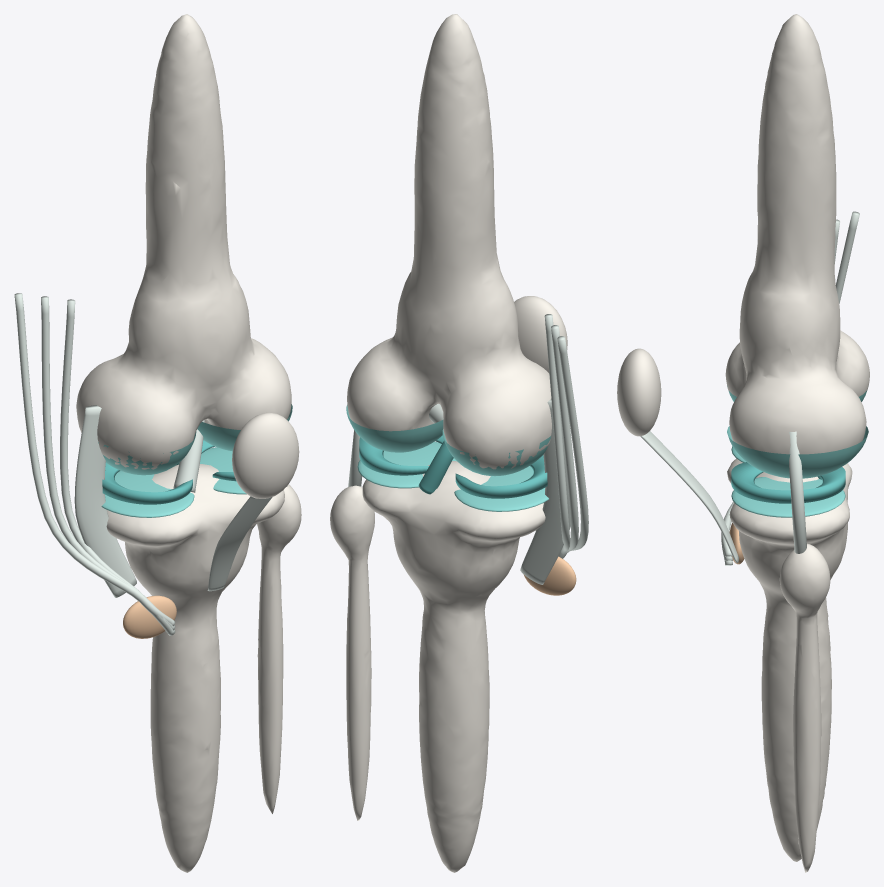
The model's file is knee-pes.glb.
3 renders of one model, left to right at view 1: azimuth 30°, elevation 25°; view 2: azimuth 150°, elevation 25°; view 3: azimuth 270°, elevation 25°, orthographic.
Visible parts, largest first — view 1: static #eee5d3, lower-leg #eee5d3, static #c7ddd2, lower-leg #49bdb4, static #49bdb4, lower-leg #258985, lower-leg #f2a066; view 2: static #eee5d3, lower-leg #eee5d3, static #c7ddd2, lower-leg #49bdb4, static #49bdb4, lower-leg #258985, lower-leg #f2a066, static #258985; view 3: static #eee5d3, lower-leg #eee5d3, static #c7ddd2, static #49bdb4, lower-leg #258985, lower-leg #49bdb4.
Part boxes in pixels (<box>): static #eee5d3: <box>76,14,299,498</box>; lower-leg #eee5d3: <box>106,464,301,872</box>; static #c7ddd2: <box>14,293,287,635</box>; lower-leg #49bdb4: <box>101,447,246,517</box>; static #49bdb4: <box>98,404,292,475</box>; lower-leg #258985: <box>102,440,236,504</box>; lower-leg #f2a066: <box>123,595,176,638</box>; static #eee5d3: <box>347,14,567,469</box>; lower-leg #eee5d3: <box>330,461,545,872</box>; static #c7ddd2: <box>348,314,588,584</box>; lower-leg #49bdb4: <box>357,441,548,511</box>; static #49bdb4: <box>346,405,550,476</box>; lower-leg #258985: <box>359,435,547,498</box>; lower-leg #f2a066: <box>523,556,576,595</box>; static #258985: <box>418,441,453,494</box>; static #eee5d3: <box>617,14,869,454</box>; lower-leg #eee5d3: <box>727,458,852,872</box>; static #c7ddd2: <box>640,211,859,565</box>; static #49bdb4: <box>727,386,868,478</box>; lower-leg #258985: <box>731,462,845,503</box>; lower-leg #49bdb4: <box>731,446,845,517</box>.
Bounding box in the file's own units: 0.2527 × 0.8002 × 0.2168.
